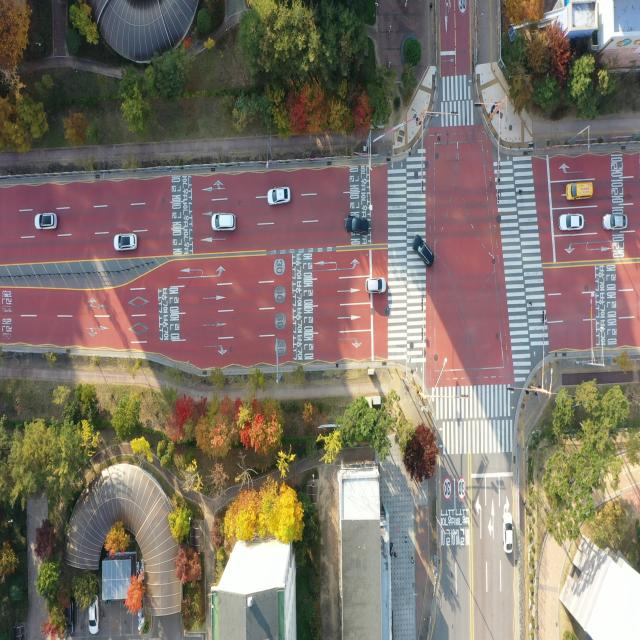car: (566, 184, 594, 202), (416, 243, 436, 266), (344, 214, 369, 232), (560, 213, 584, 231), (212, 212, 236, 230), (115, 234, 138, 252), (268, 186, 290, 204), (35, 212, 57, 230), (606, 212, 628, 230), (503, 511, 512, 553), (89, 603, 99, 635), (366, 277, 385, 293)
